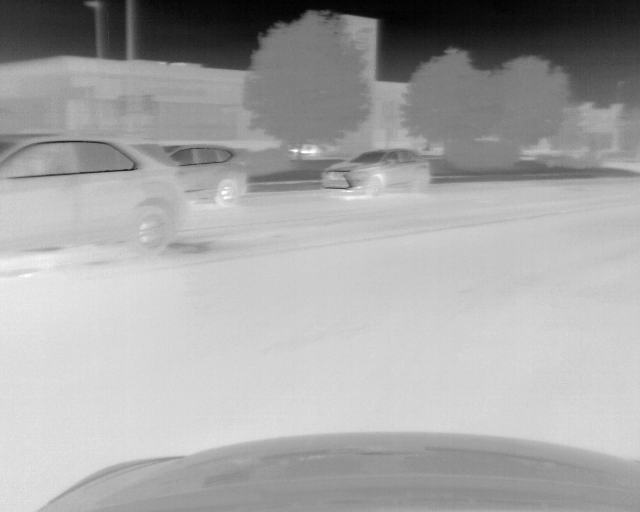car: (1, 134, 186, 253), (322, 147, 430, 195), (169, 146, 247, 209)
